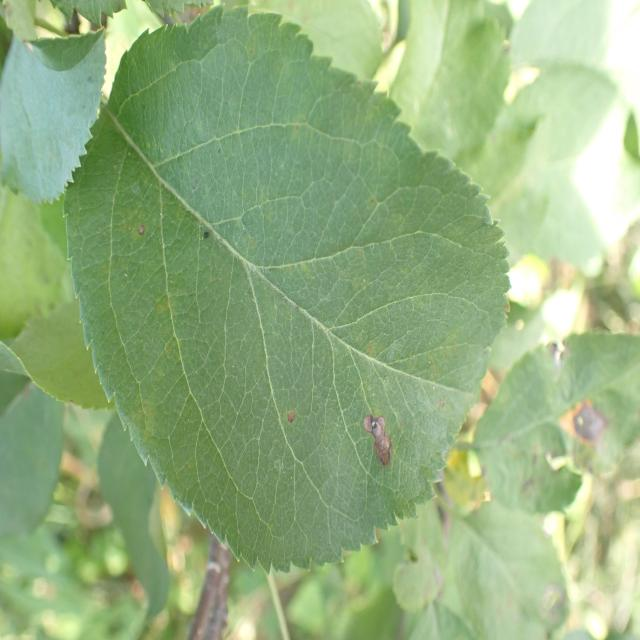frog-eye-leaf-spot: (60, 3, 512, 576)
